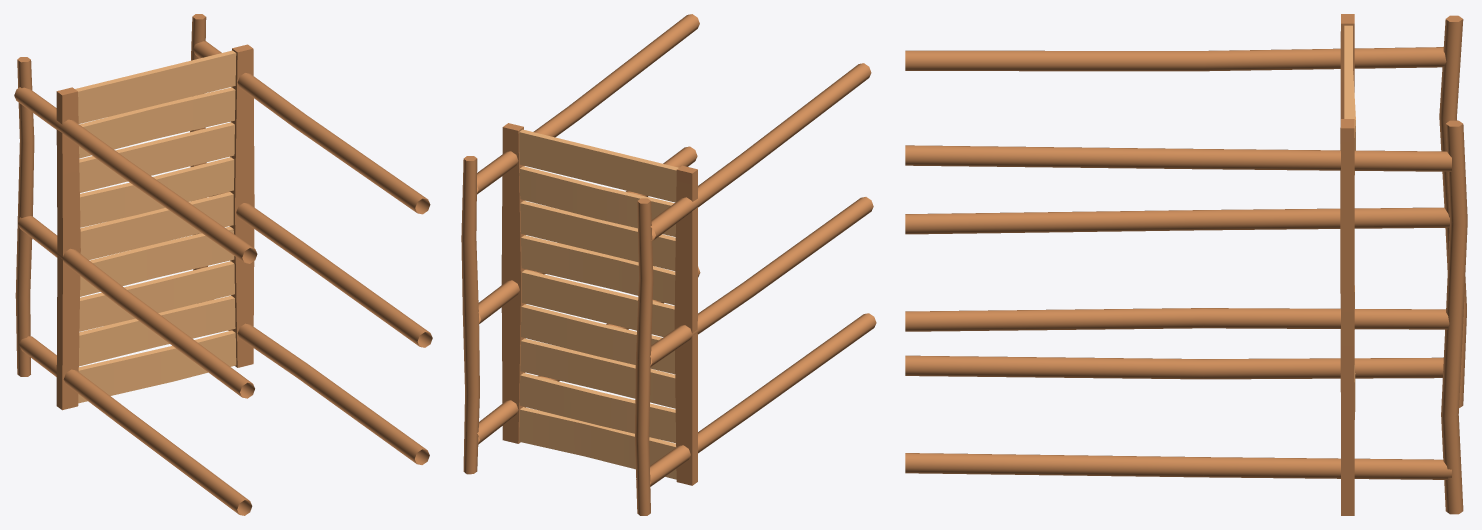
Rendered from Bridge.fbx.
The picture shows the model from 3 angles, left to right: view 1: azimuth 30°, elevation 25°; view 2: azimuth 150°, elevation 25°; view 3: azimuth 270°, elevation 25°; orthographic projection. The views are drawn at different scales.
Parts seen in each view (by area): view 1: Circle.005; view 2: Circle.005; view 3: Circle.005.
Boxes of the visible parts, box(x1,y1,x2,y2) form: Circle.005: box(14, 14, 432, 515); Circle.005: box(461, 14, 876, 515); Circle.005: box(905, 14, 1467, 515).
Bounding box in the file's own units: 190 × 292 × 385.
